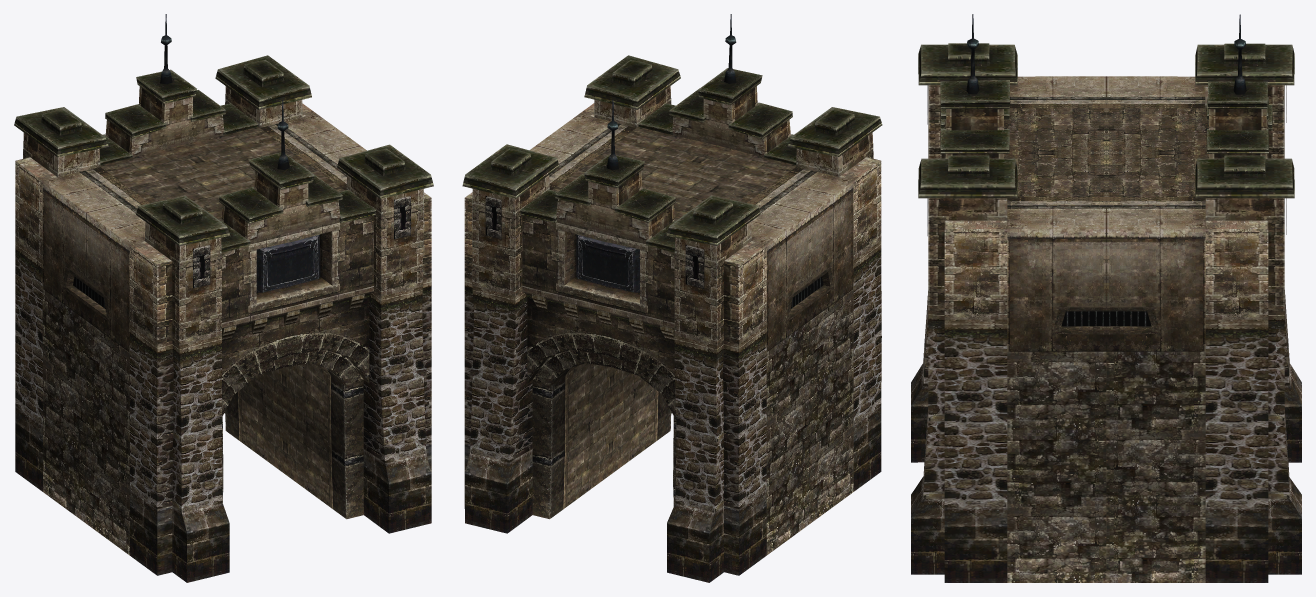
The model's file is OZ_30_mi_btgate01A.glb.
The picture shows the model from 3 angles, left to right: view 1: azimuth 30°, elevation 25°; view 2: azimuth 150°, elevation 25°; view 3: azimuth 270°, elevation 25°; orthographic projection. The views are drawn at different scales.
Parts seen in each view (by area): view 1: OM_30_mi_btgate01A; view 2: OM_30_mi_btgate01A; view 3: OM_30_mi_btgate01A.
Part boxes in pixels (x1,y1,x2,y2): OM_30_mi_btgate01A: [14, 14, 433, 582]; OM_30_mi_btgate01A: [462, 14, 882, 582]; OM_30_mi_btgate01A: [911, 14, 1301, 582].
Bounding box in the file's own units: 12.02 × 18.09 × 13.
Materials: 4 (4 with a texture image).
